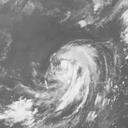cyclone: (45, 40, 108, 115)
